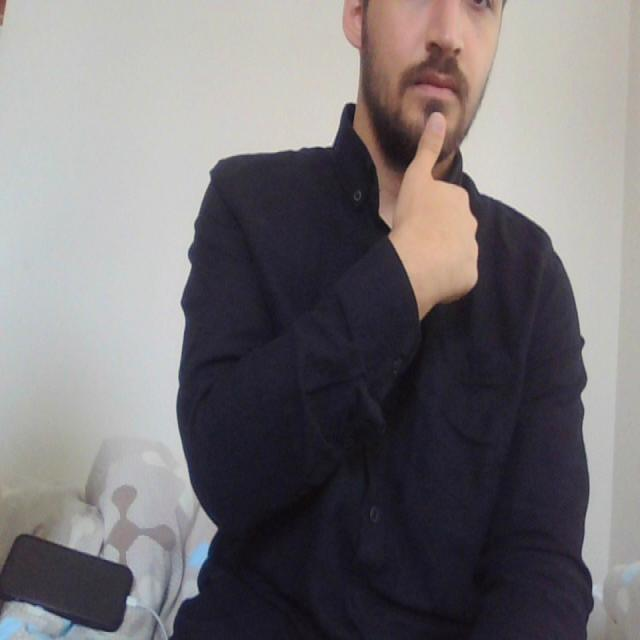Baba: (390, 60, 471, 176)
